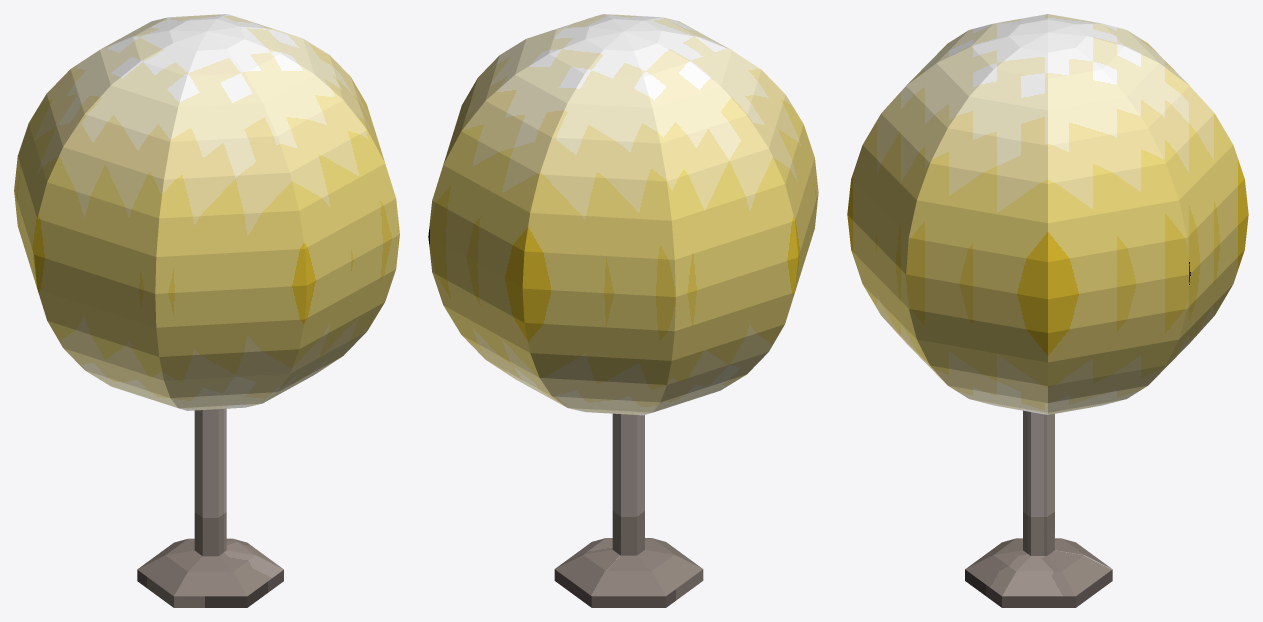
File: 11_sunx08.gltf
The picture shows the model from 3 angles, left to right: view 1: azimuth 30°, elevation 25°; view 2: azimuth 150°, elevation 25°; view 3: azimuth 270°, elevation 25°; orthographic projection.
Visible parts, largest first — view 1: 11_sunx08; view 2: 11_sunx08; view 3: 11_sunx08.
Boxes of the visible parts, x1,y1,x2,y2 form: 11_sunx08: [14, 14, 399, 607]; 11_sunx08: [428, 14, 818, 607]; 11_sunx08: [847, 14, 1248, 607].
Bounding box in the file's own units: 2 × 3.02 × 2.
Materials: 2 (2 with a texture image).
